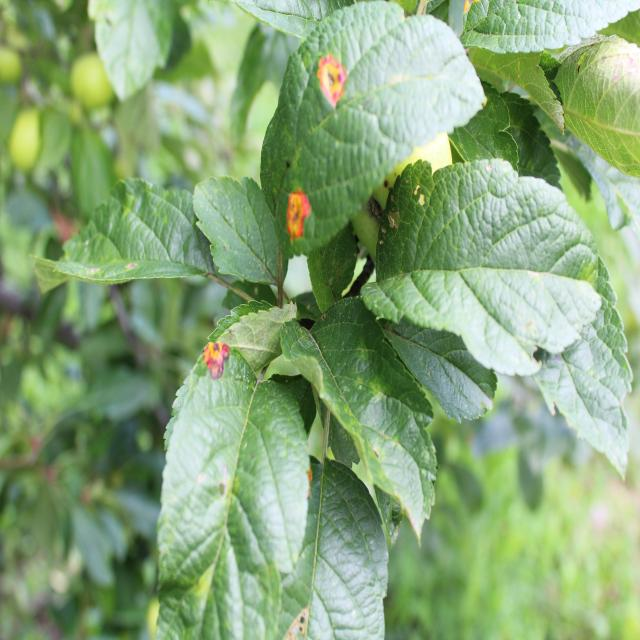Rust: (193, 304, 236, 402), (256, 193, 330, 246), (314, 41, 355, 114)
